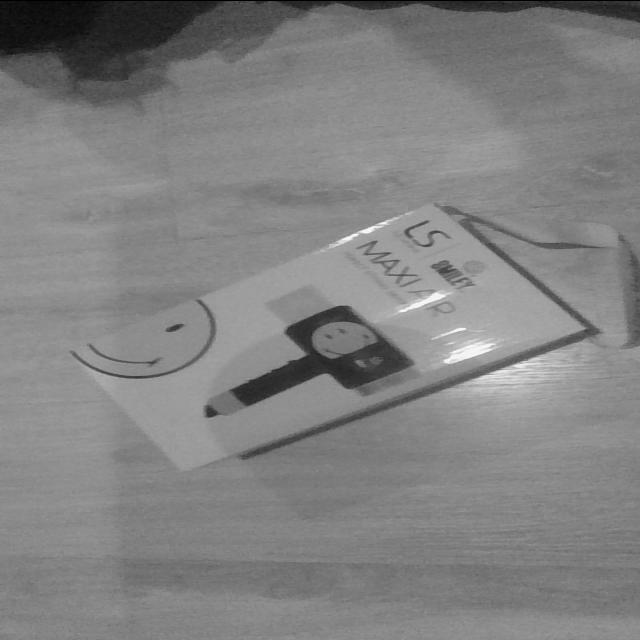Dryer: (66, 201, 604, 473)
